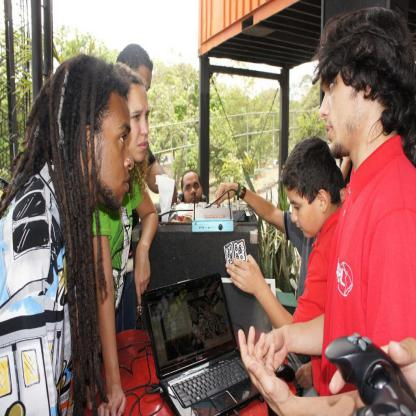board: (145, 270, 263, 416)
